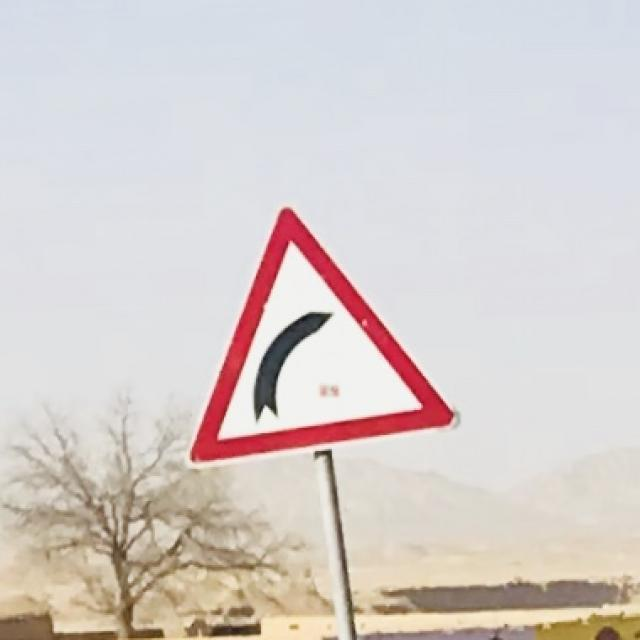right hand curve: (170, 205, 464, 466)
